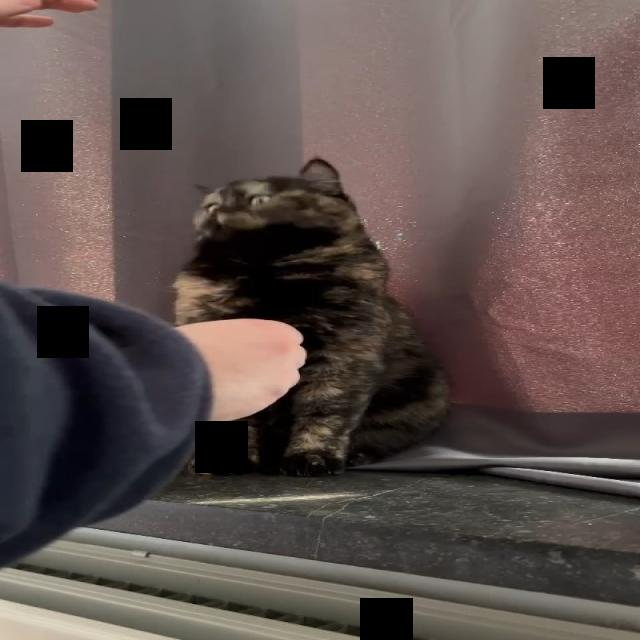authorized: (169, 156, 451, 477)
